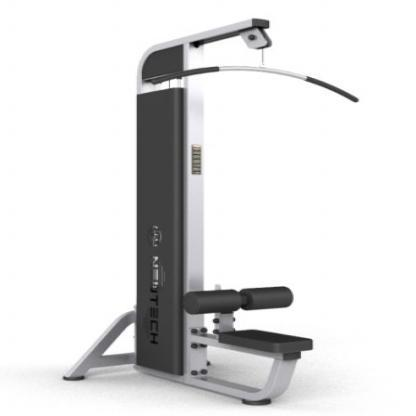Lat Pull Down: (51, 11, 380, 409)
